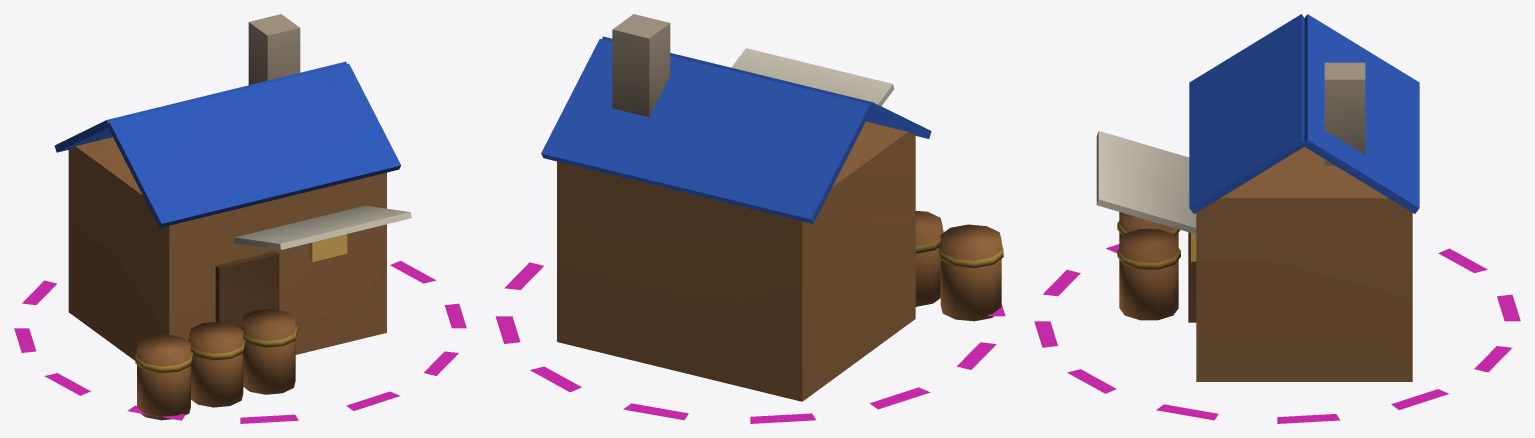
The model's file is atelier.glb.
The picture shows the model from 3 angles, left to right: view 1: azimuth 30°, elevation 25°; view 2: azimuth 150°, elevation 25°; view 3: azimuth 270°, elevation 25°; orthographic projection. The views are drawn at different scales.
Visible parts, largest first — view 1: Corp, Marcaj_PLACEHOLDER, Lumina; view 2: Corp, Marcaj_PLACEHOLDER; view 3: Corp, Marcaj_PLACEHOLDER.
Boxes of the visible parts, x1,y1,x2,y2 form: Corp: [54, 14, 411, 420]; Marcaj_PLACEHOLDER: [14, 260, 466, 423]; Lumina: [309, 234, 347, 262]; Corp: [541, 14, 1003, 401]; Marcaj_PLACEHOLDER: [495, 262, 1005, 423]; Corp: [1096, 14, 1419, 381]; Marcaj_PLACEHOLDER: [1034, 244, 1520, 423].
Size of the model in its own units: 3.6 by 2.35 by 3.6.
